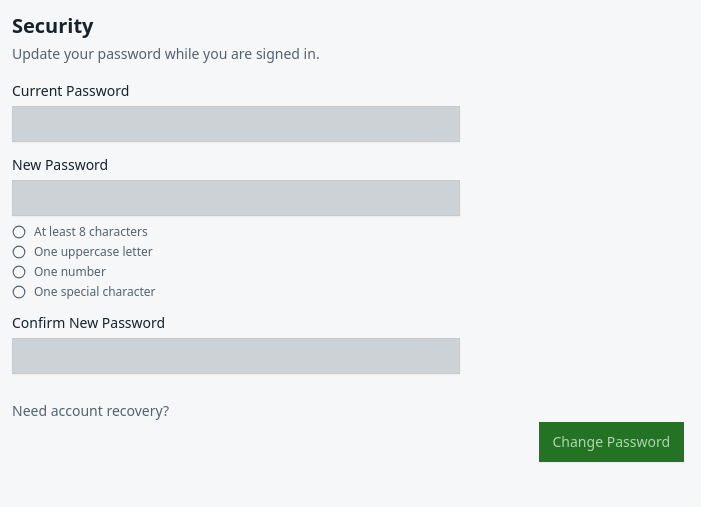
Test: SecuritySection › prevents submit when the password is missing a special character
Type "StrongPassword123!" into the password field labelled "Current Password". click: (236, 124)
box: left=12, top=106, right=460, bottom=142
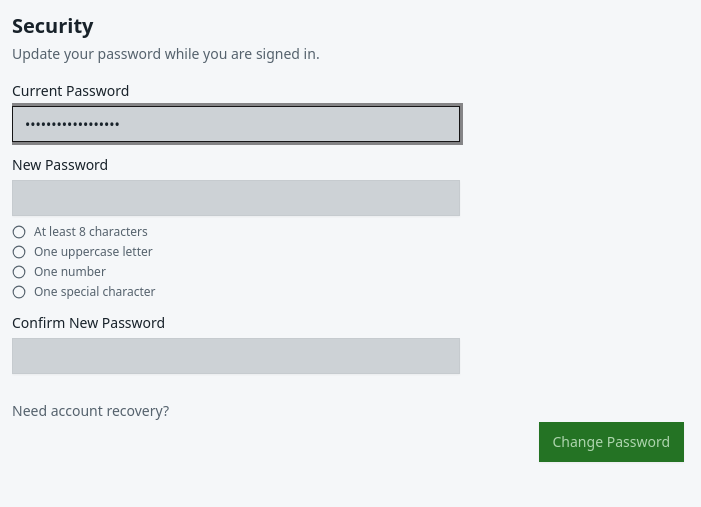
Type "MissingSpecial123" into the password field labelled "New Password". click: (236, 198)
box: left=12, top=180, right=460, bottom=216
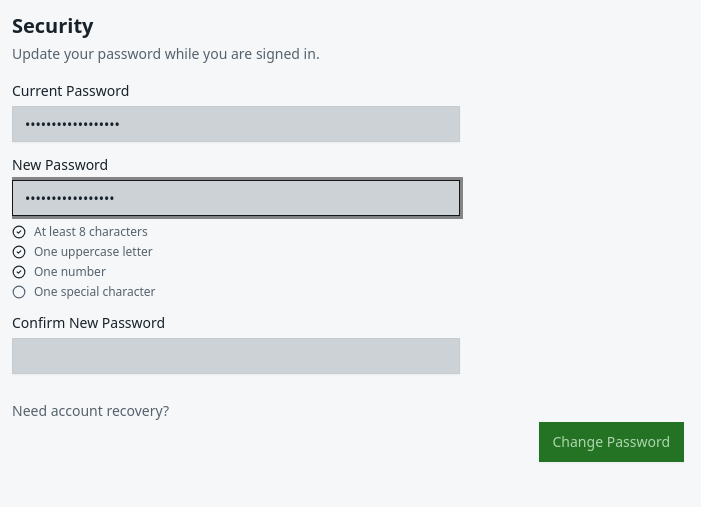
Type "MissingSpecial123" into the password field labelled "Confirm New Password". click: (236, 356)
box: left=12, top=338, right=460, bottom=374
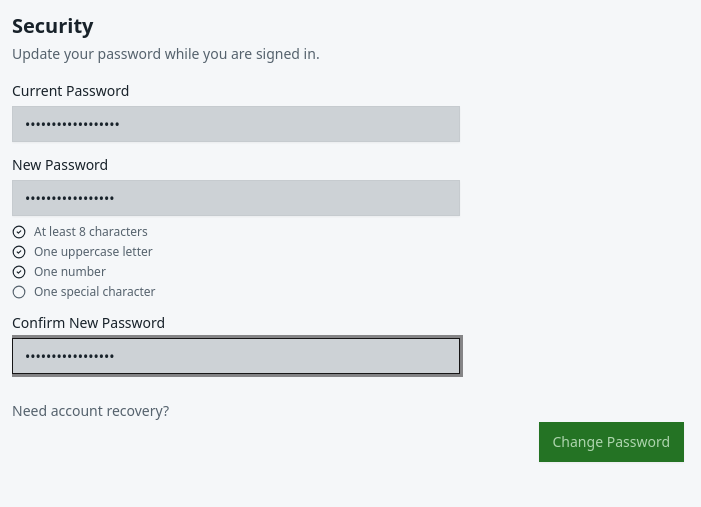
Click the button "Change Password". click: (611, 442)
box: left=538, top=422, right=684, bottom=462
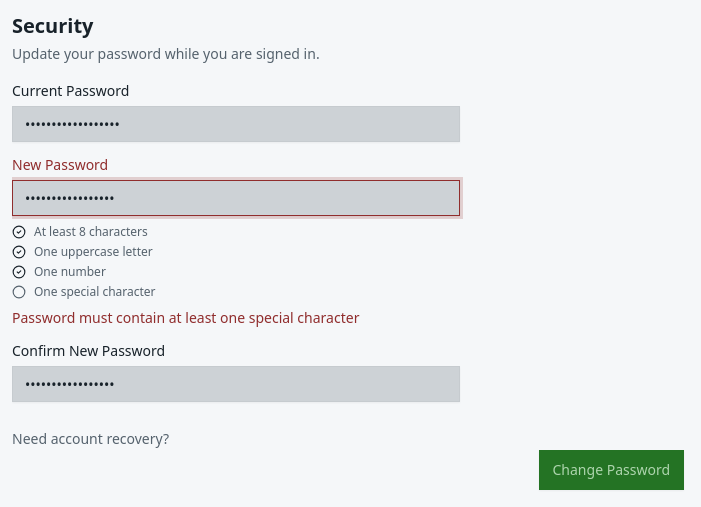
Expected: the text "Password must contain at least one special character" is shown, left=12, top=308, right=359, bottom=327
